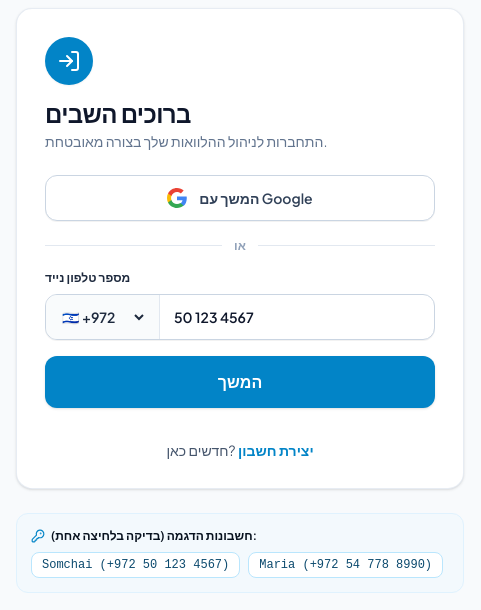
Test: Login screen in Hebrew (T3.2) › shows Hebrew text and no English sentences, including after going to registration
The width and height of the screenshot is (481, 610).
Expected: the heading reads "ברוכים השבים", [45, 98, 191, 128]
Expected: the button "המשך" is shown, [45, 356, 435, 408]
Click the button "יצירת חשבון".
click(276, 450)  # box [238, 440, 314, 460]
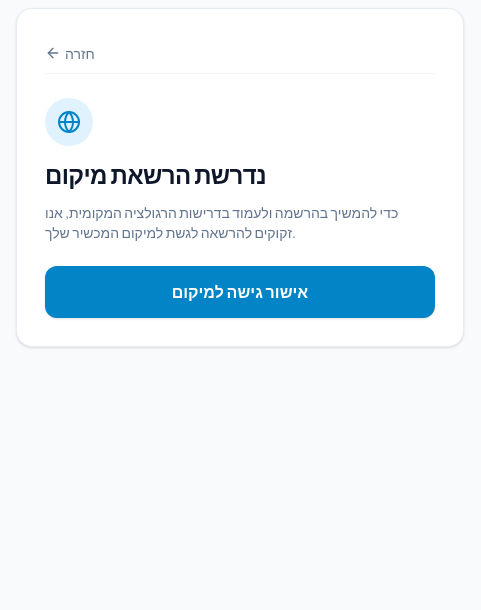
Expected: the heading reads "נדרשת הרשאת מיקום", [45, 159, 266, 189]
